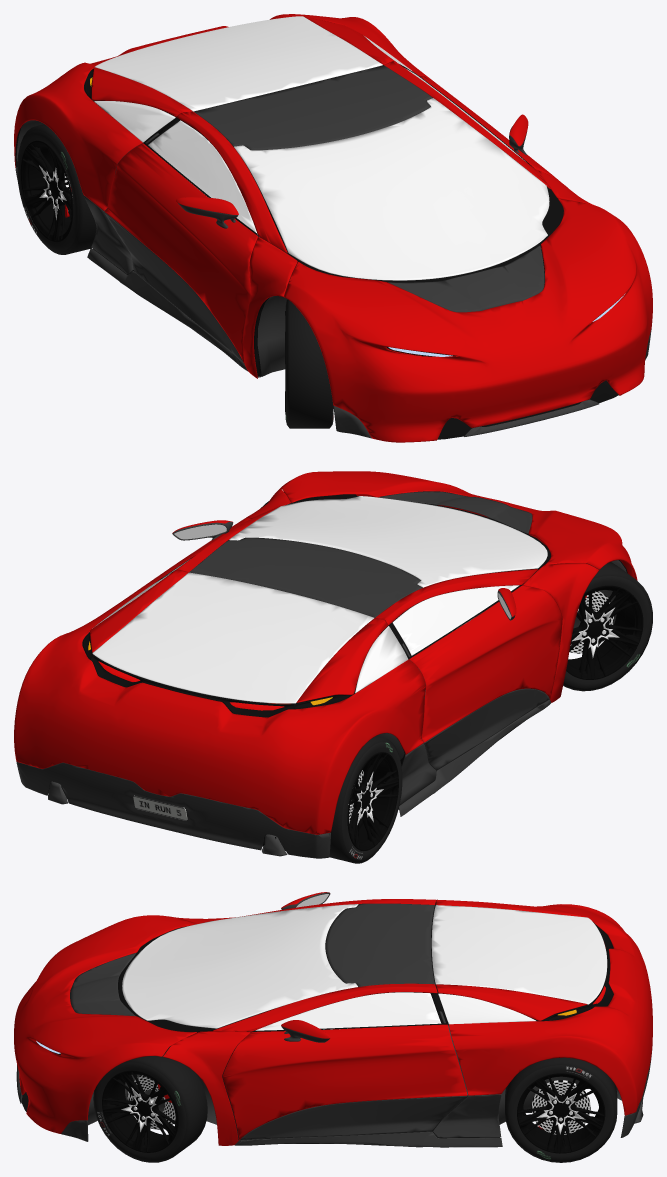
The model's file is car.glb.
The picture shows the model from 3 angles, top to bottom: view 1: azimuth 30°, elevation 25°; view 2: azimuth 150°, elevation 25°; view 3: azimuth 270°, elevation 25°; orthographic projection. The views are drawn at different scales.
Parts seen in each view (by area): view 1: BodyHood, BodyWindshield, BodyRearwindow, BodyDoorRColor1, BodyRearPanelsColor1, BodyRoofPanel, BodyPillars, BodyPanelsColor2, BodyHoodTopgrill, WheelFrontR, BodyDoorRWindow, WheelRearRRim (+8 smaller); view 2: BodyRearPanelsColor1, BodyRearwindow, BodyWindshield, BodyDoorRColor1, BodyPanelsColor2, BodyRoofPanel, BodyHood, BodyPillars, WheelFrontRRim, BodyDoorRColor2, WheelRearRRim, BodyDoorRWindow (+7 smaller); view 3: BodyWindshield, BodyRearPanelsColor1, BodyDoorLColor1, BodyHood, BodyRearwindow, BodyRoofPanel, BodyPillars, BodyDoorLColor2, BodyPanelsColor2, WheelFrontL, WheelRearLRim, WheelFrontLRim (+11 smaller).
Part boxes in pixels (<box>): BodyHood: <box>283,198,652,442</box>; BodyWindshield: <box>234,98,549,280</box>; BodyRearwindow: <box>94,16,382,111</box>; BodyDoorRColor1: <box>104,143,257,363</box>; BodyRearPanelsColor1: <box>14,14,429,210</box>; BodyRoofPanel: <box>193,65,432,150</box>; BodyPillars: <box>176,61,598,378</box>; BodyPanelsColor2: <box>15,167,651,438</box>; BodyHoodTopgrill: <box>388,245,544,312</box>; WheelFrontR: <box>285,299,333,428</box>; BodyDoorRWindow: <box>148,120,257,234</box>; WheelRearRRim: <box>20,140,73,242</box>; BodyRearPanelsColor1: <box>14,569,425,834</box>; BodyRearwindow: <box>92,572,373,703</box>; BodyWindshield: <box>229,496,547,587</box>; BodyDoorRColor1: <box>409,585,562,742</box>; BodyPanelsColor2: <box>16,700,550,858</box>; BodyRoofPanel: <box>189,537,422,617</box>; BodyHood: <box>279,471,637,580</box>; BodyPillars: <box>175,489,599,702</box>; WheelFrontRRim: <box>566,585,643,679</box>; BodyDoorRColor2: <box>424,688,549,769</box>; WheelRearRRim: <box>347,752,398,850</box>; BodyDoorRWindow: <box>392,585,519,655</box>; BodyWindshield: <box>122,904,358,1028</box>; BodyRearPanelsColor1: <box>436,899,652,1115</box>; BodyDoorLColor1: <box>222,1024,467,1140</box>; BodyHood: <box>14,915,196,1133</box>; BodyRearwindow: <box>431,905,607,1004</box>; BodyRoofPanel: <box>326,903,434,986</box>; BodyPillars: <box>163,899,437,1145</box>; BodyDoorLColor2: <box>240,1096,467,1140</box>; BodyPanelsColor2: <box>16,1050,652,1147</box>; WheelFrontL: <box>93,1054,207,1162</box>; WheelRearLRim: <box>517,1073,605,1153</box>; WheelFrontLRim: <box>102,1070,178,1152</box>.
Size of the model in its own units: 2.54 by 1.15 by 4.36.
Materials: 21 (3 with a texture image).
